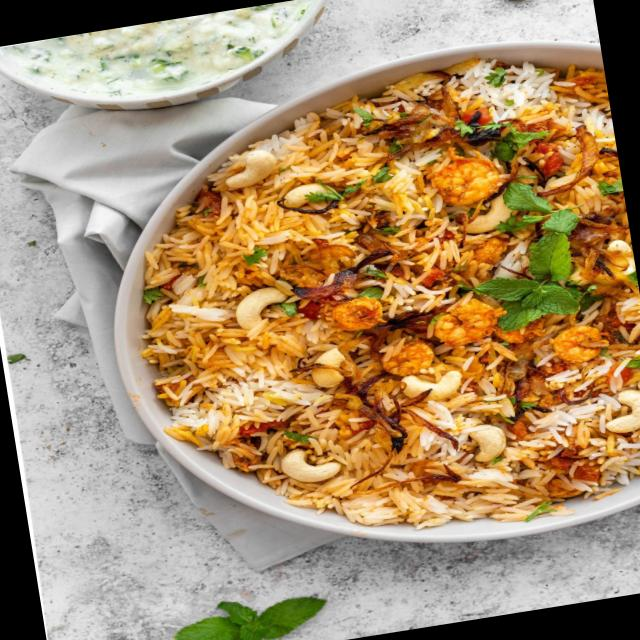Biryani: (109, 36, 640, 583)
